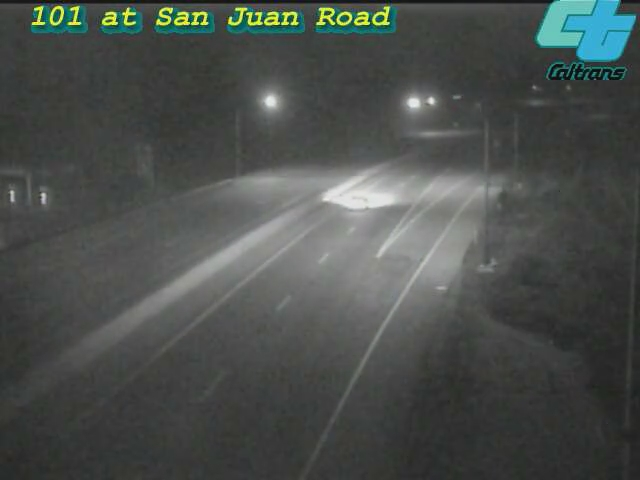vehicle: (317, 161, 397, 241)
